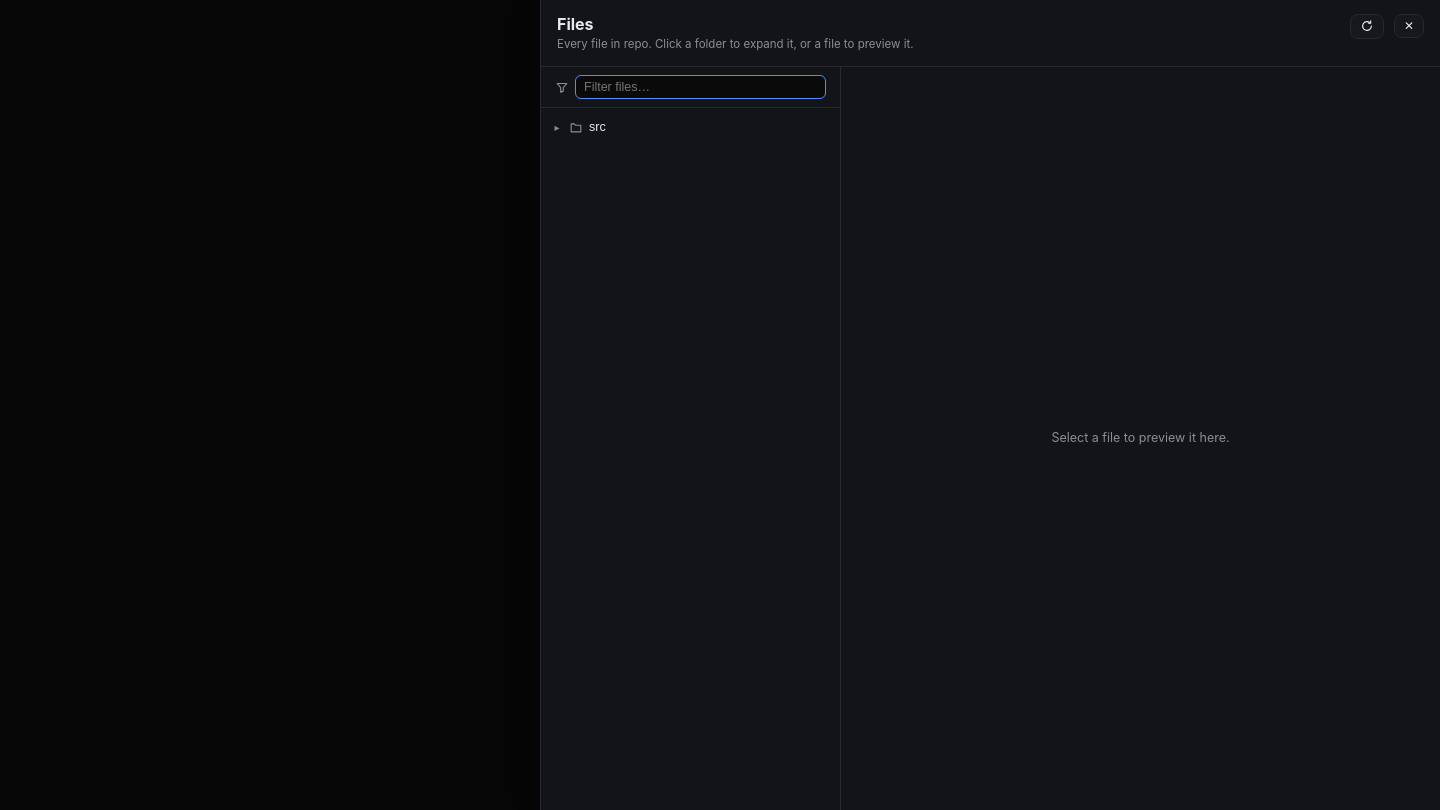
Test: FilesPanel › lazily loads a folder when expanded, then collapses it
The image size is (1440, 810).
# Children aren't fetched until the folder is opened.
Click the text "src".
click(597, 127)  # box [589,120,606,134]
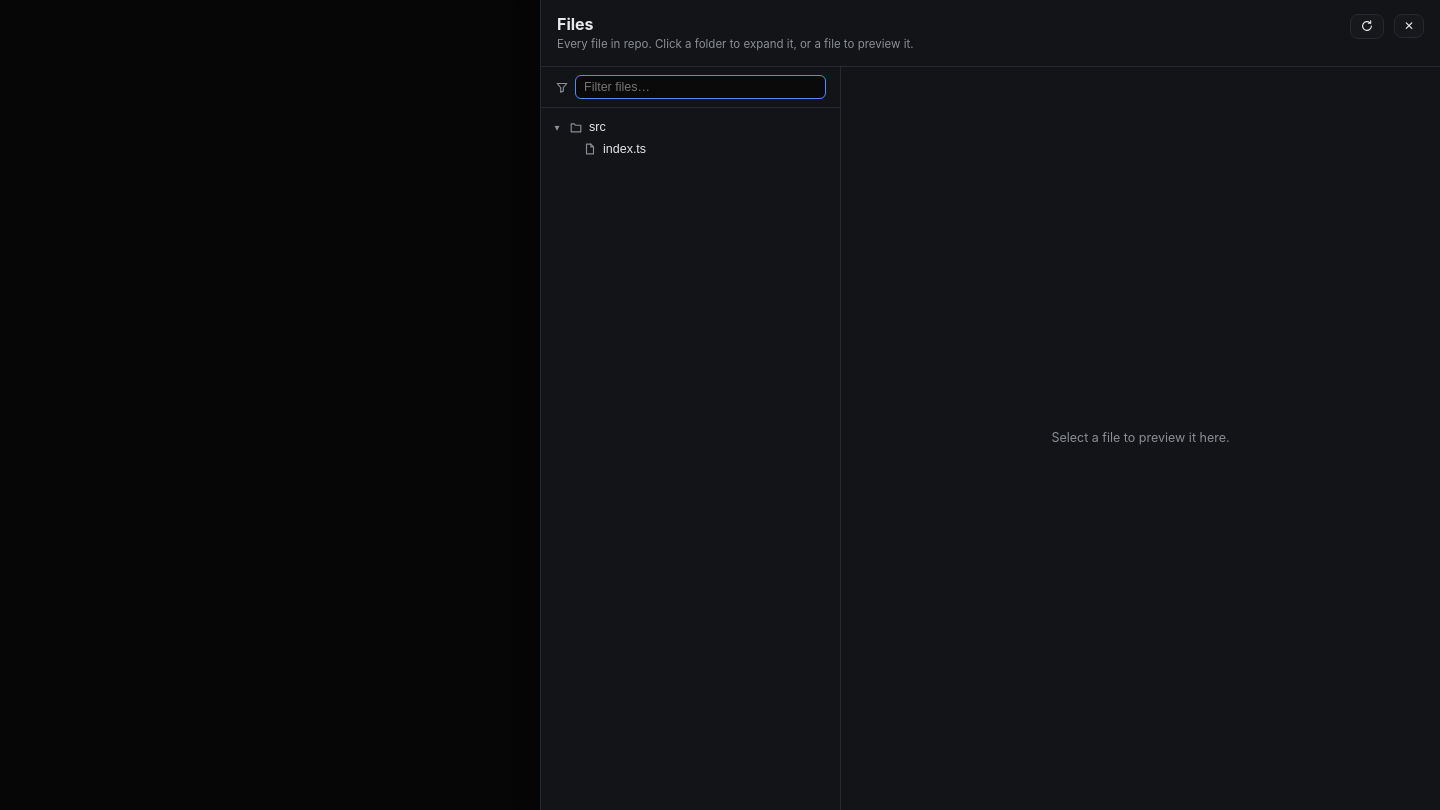
Expected: the text "index.ts" is shown, [603,142,646,156]
# Collapsing hides the children again (and doesn't refetch on re-expand).
Click the text "src".
click(597, 127)  # box [589,120,606,134]
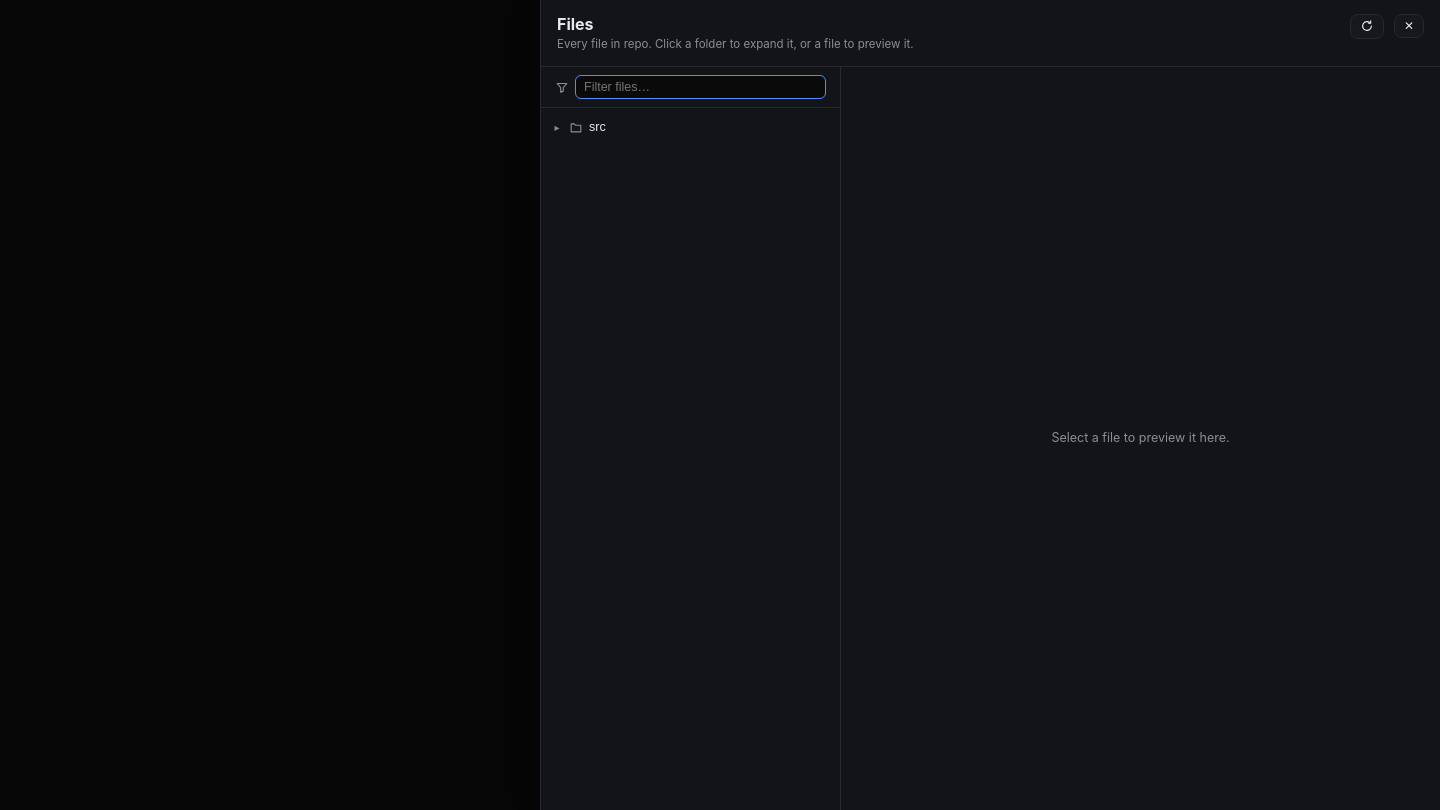
Expected: the button "index.ts" is gone
Click the text "src".
click(597, 127)  # box [589,120,606,134]
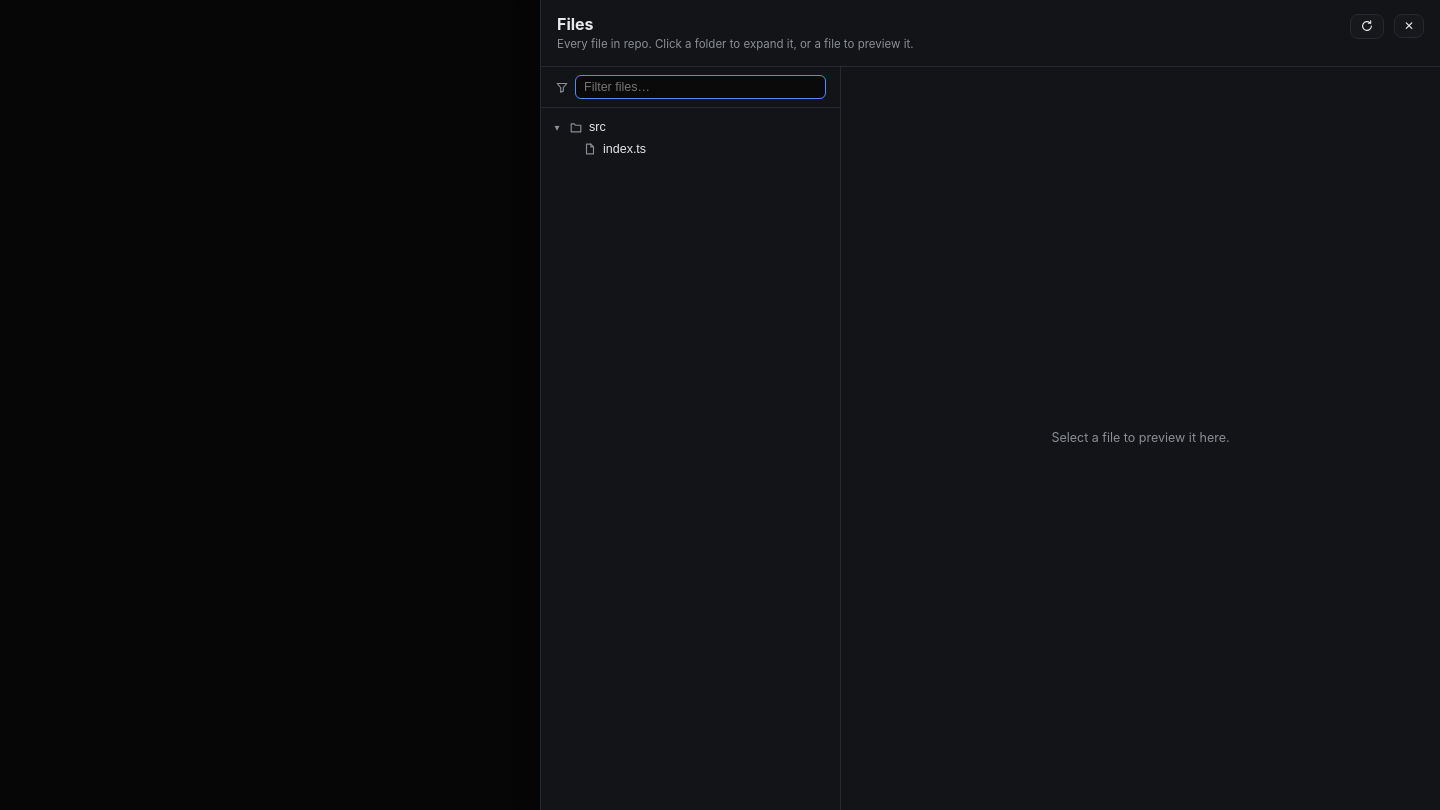
Expected: the text "index.ts" is shown, [603,142,646,156]
